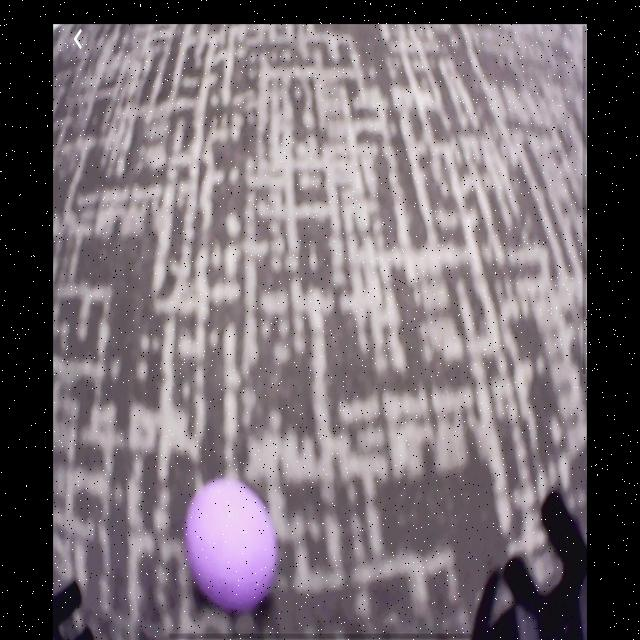ball: (185, 479, 281, 611)
